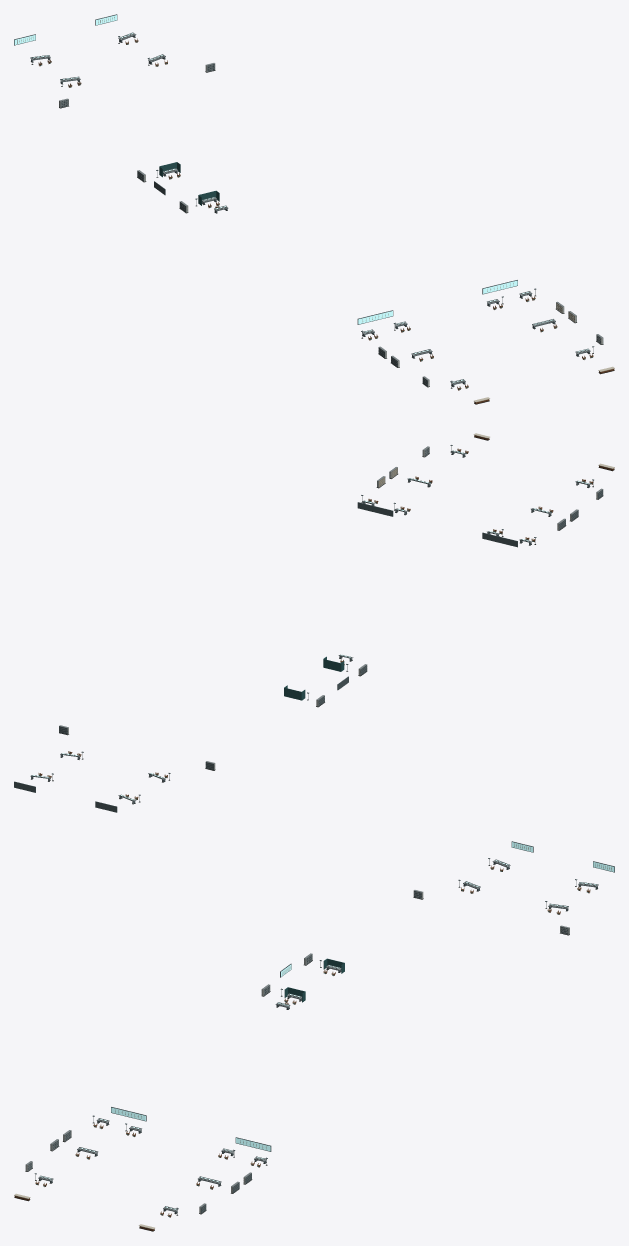
Rendered from G8_CROWN_INTERIORS_r001.glb.
3 views of the same model, one above another, from view 1: azimuth 30°, elevation 25°; view 2: azimuth 150°, elevation 25°; view 3: azimuth 330°, elevation 25° (orthographic).
Bounding box in the file's own units: 67.33 × 3.85 × 306.
17 materials, 15 textured.
